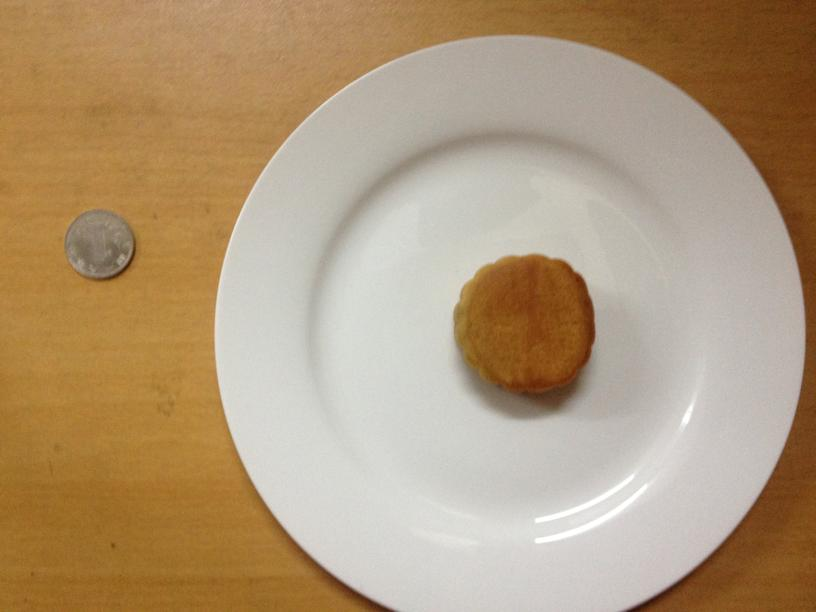coin: (65, 210, 136, 280)
mooncake: (453, 253, 595, 392)
